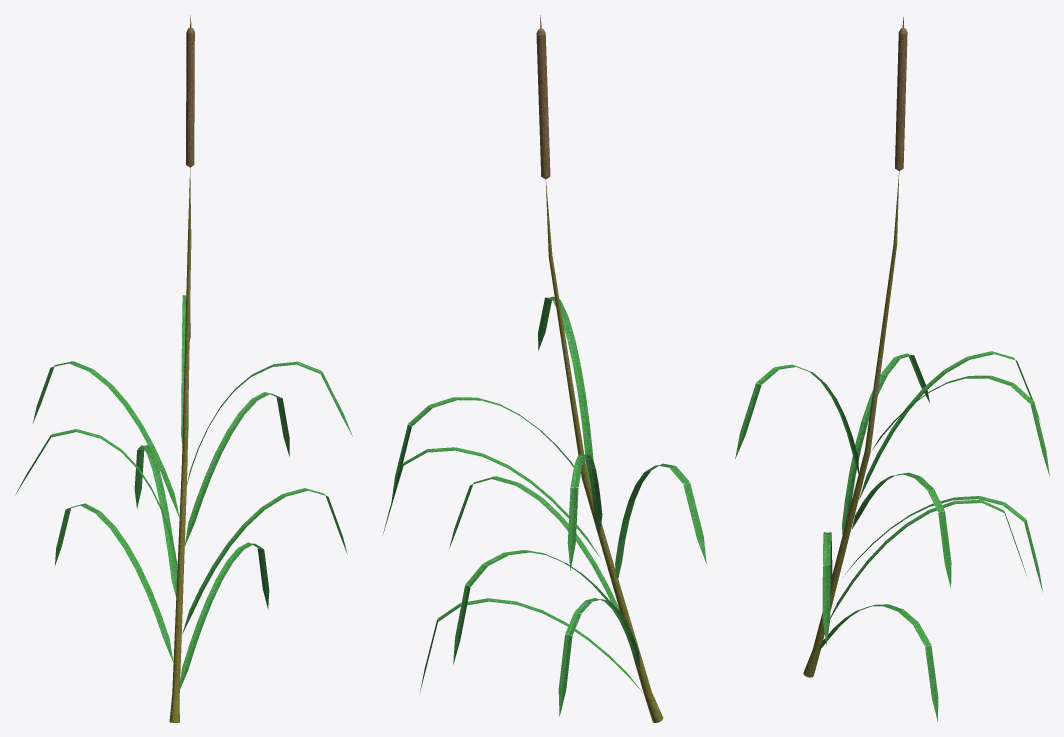
File: PlantSans.dae
3 renders of one model, left to right at view 1: azimuth 30°, elevation 25°; view 2: azimuth 150°, elevation 25°; view 3: azimuth 270°, elevation 25°, orthographic. The views are drawn at different scales.
Parts seen in each view (by area): view 1: entre-001_1, ovaire005; view 2: entre-001_1, ovaire005; view 3: entre-001_1, ovaire005.
Boxes of the visible parts, x1=… form: entre-001_1: x1=169, y1=168, x2=191, y2=722; ovaire005: x1=186, y1=15, x2=194, y2=167; entre-001_1: x1=545, y1=180, x2=663, y2=722; ovaire005: x1=536, y1=15, x2=550, y2=179; entre-001_1: x1=803, y1=171, x2=899, y2=677; ovaire005: x1=895, y1=17, x2=907, y2=171.
Size of the model in its own units: 13.21 by 12.06 by 29.28.
